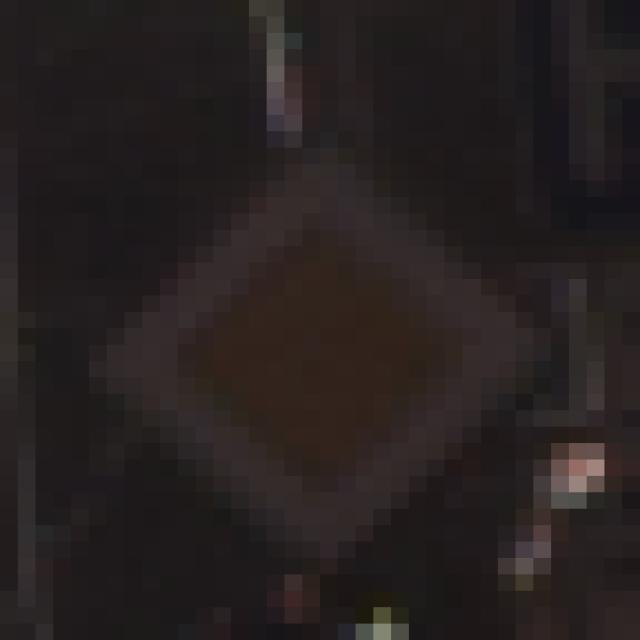Main Road: (90, 99, 552, 559)
